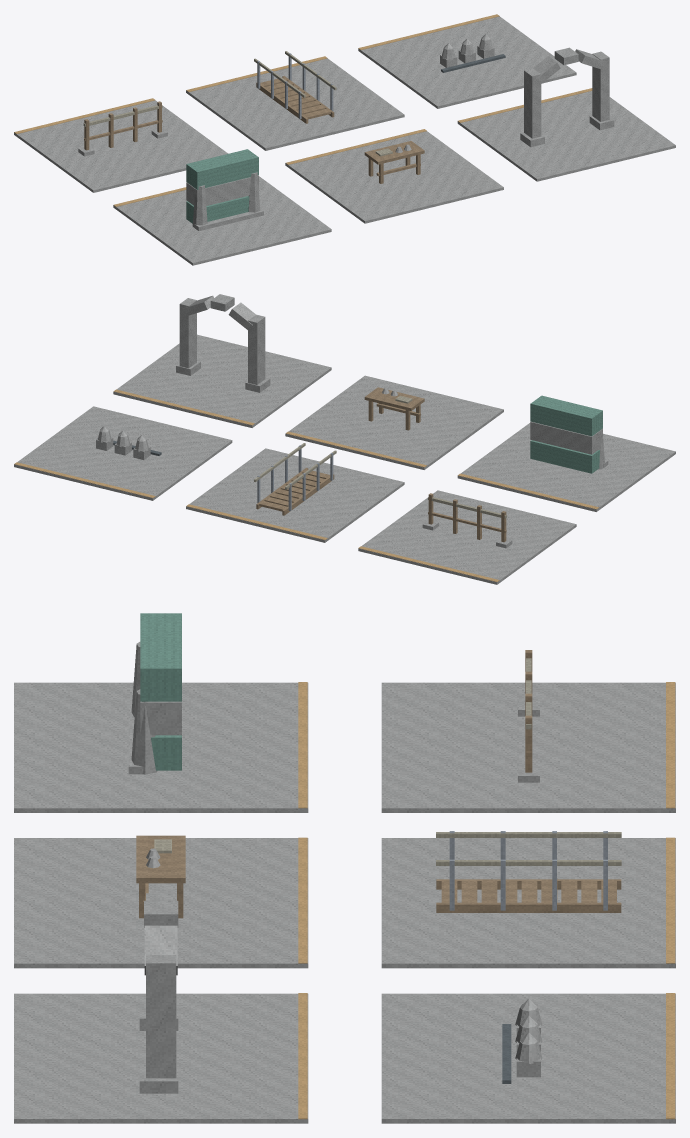
The model's file is level_blockout_kit_wld_05_p05.glb.
The picture shows the model from 3 angles, top to bottom: view 1: azimuth 30°, elevation 25°; view 2: azimuth 150°, elevation 25°; view 3: azimuth 270°, elevation 25°; orthographic projection. The views are drawn at different scales.
Parts seen in each view (by area): view 1: level_blockout_kit_wld_05_p05; view 2: level_blockout_kit_wld_05_p05; view 3: level_blockout_kit_wld_05_p05.
Boxes of the visible parts, x1,y1,x2,y2 form: level_blockout_kit_wld_05_p05: (14,14,675,265); level_blockout_kit_wld_05_p05: (14,294,675,584); level_blockout_kit_wld_05_p05: (14,613,675,1123).
Bounding box in the file's own units: 19.65 × 3.23 × 12.6.
Materials: 7 (7 with a texture image).
